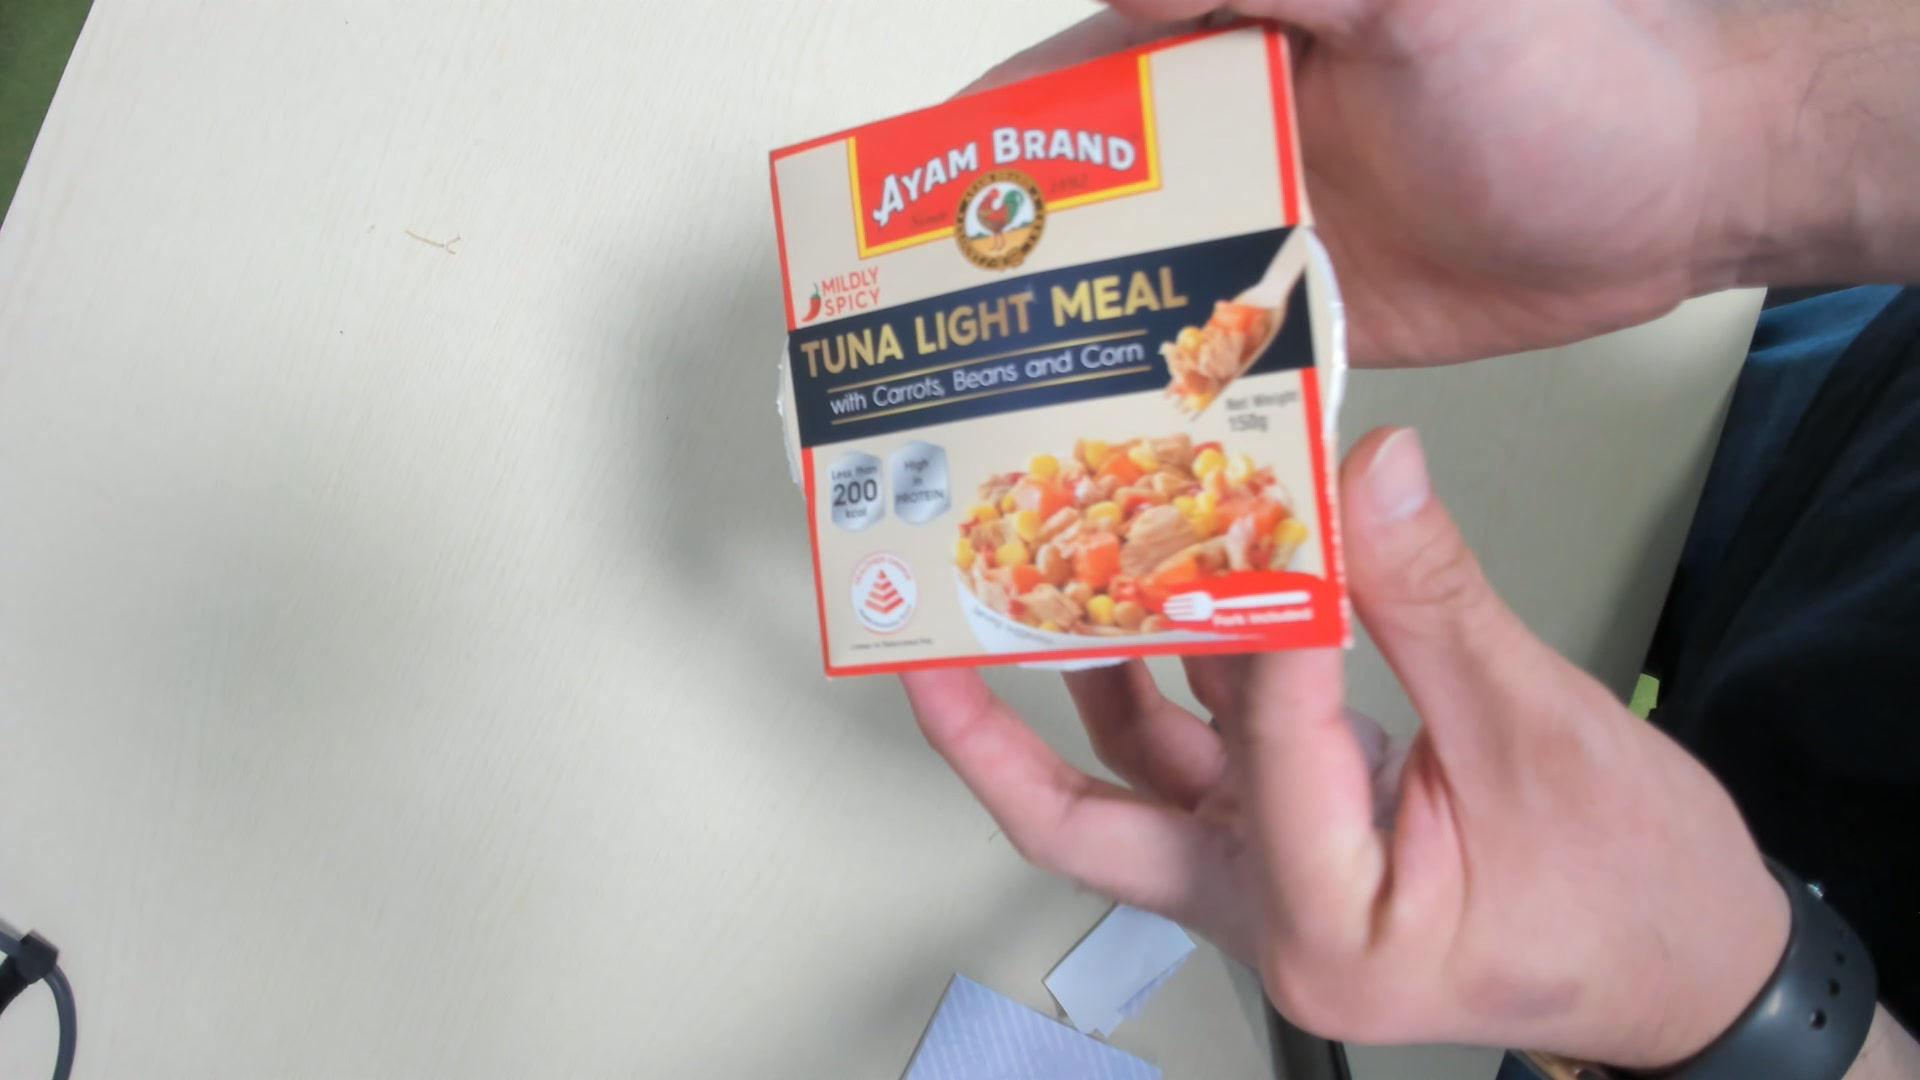InstantMeals_100-199g_NonHalal_Healthy: (761, 22, 1348, 702)
